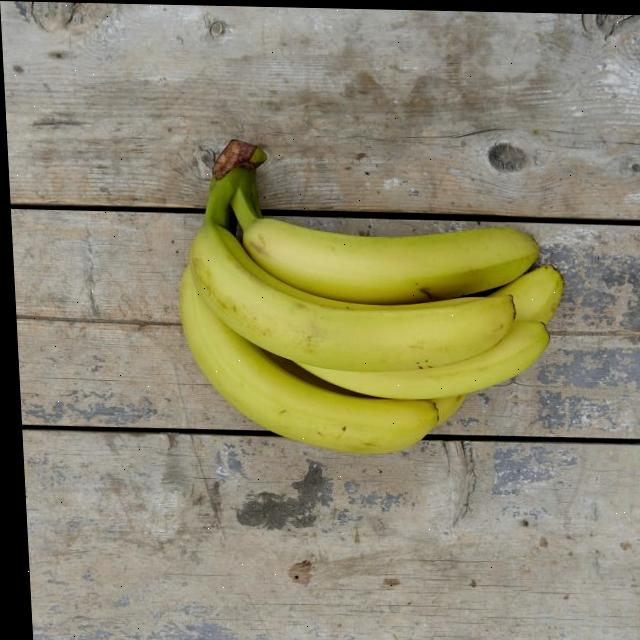banana: (166, 134, 586, 471)
